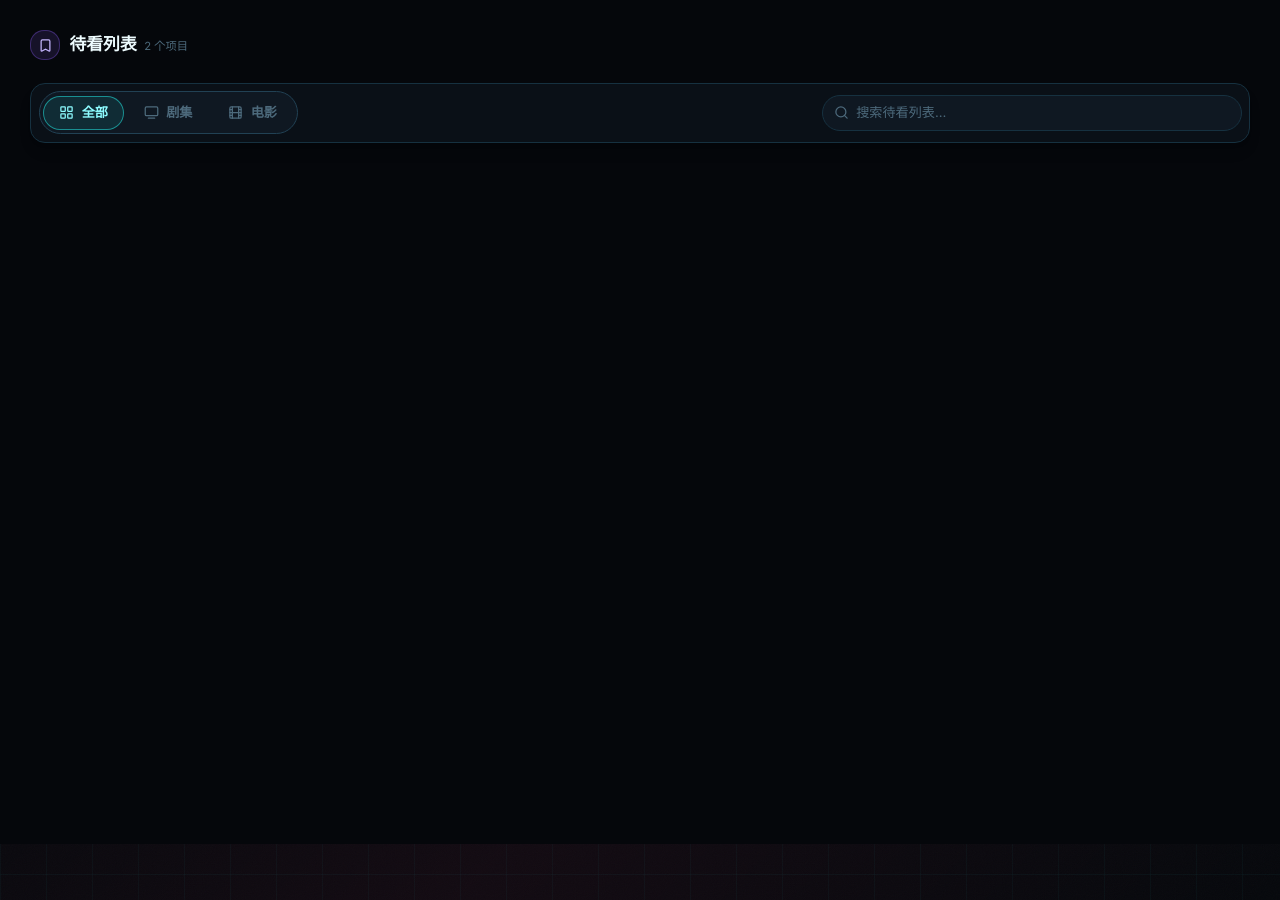
it: WatchlistPage › filters client-side by title as the user types (after the debounce)
Type "arrival" into the field with placeholder "搜索待看列表…" at (1043, 113), box [856, 103, 1229, 122]
Wait 300 ms
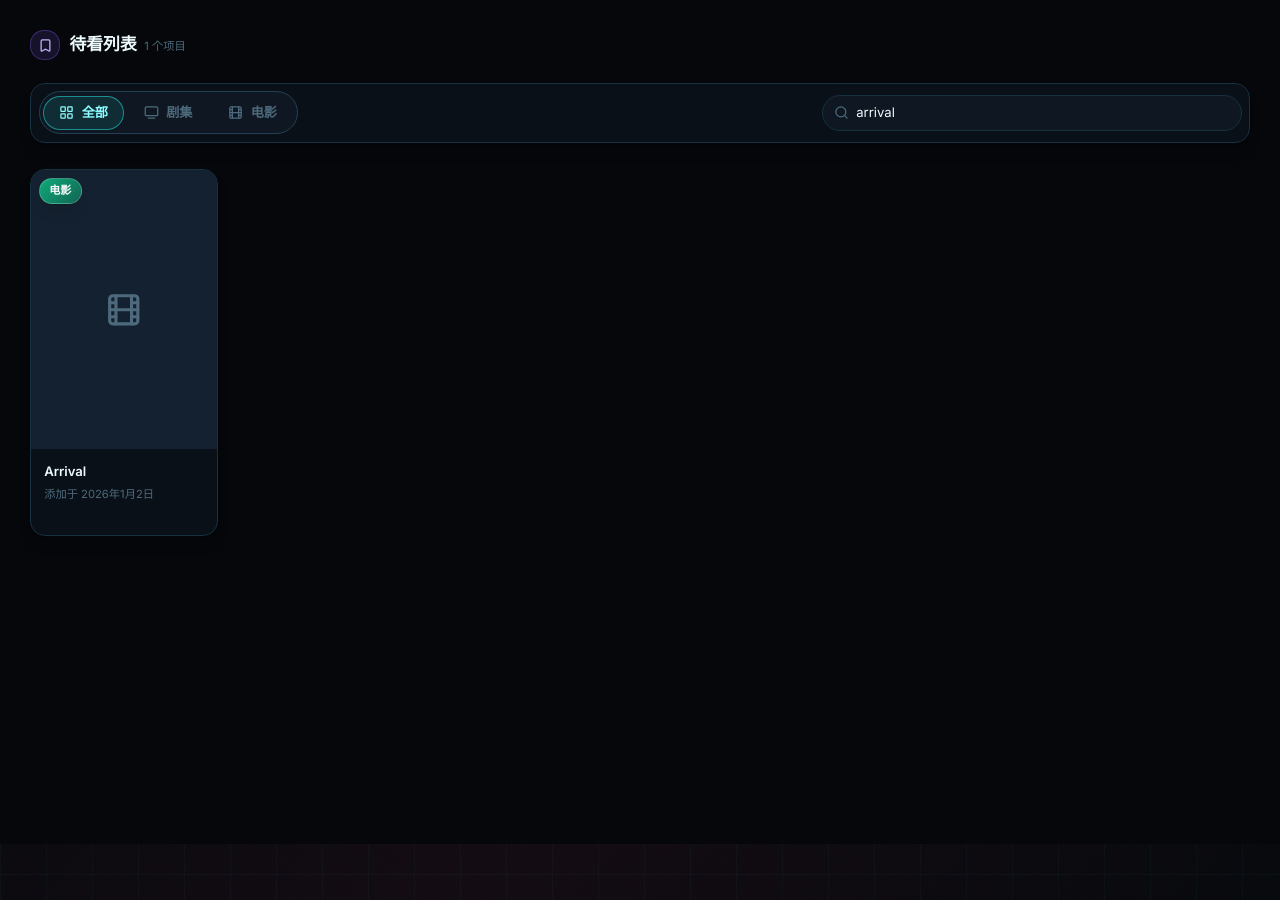
expect the heading "Arrival" is shown: met, box [44, 463, 86, 479]
